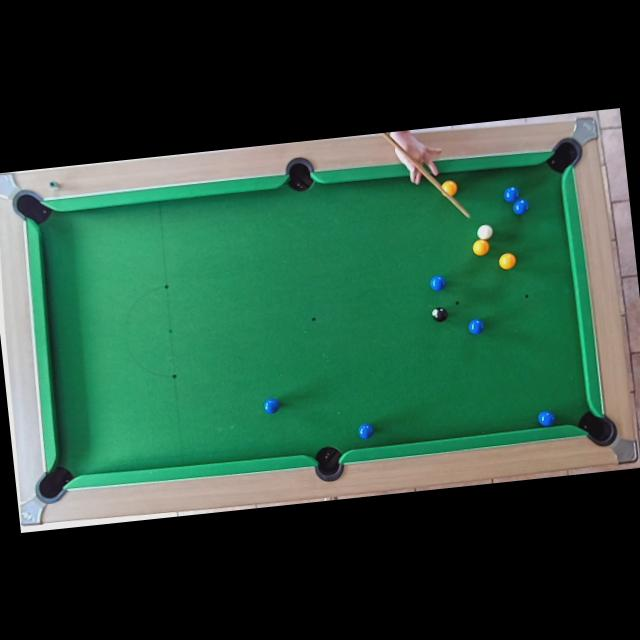Ball: (497, 250, 517, 270), (439, 178, 458, 198), (536, 408, 555, 428), (356, 422, 374, 440), (512, 198, 530, 216), (472, 239, 489, 257), (467, 318, 484, 336), (503, 185, 521, 202), (432, 306, 448, 323), (477, 224, 492, 240), (262, 398, 278, 413), (429, 276, 445, 291)
